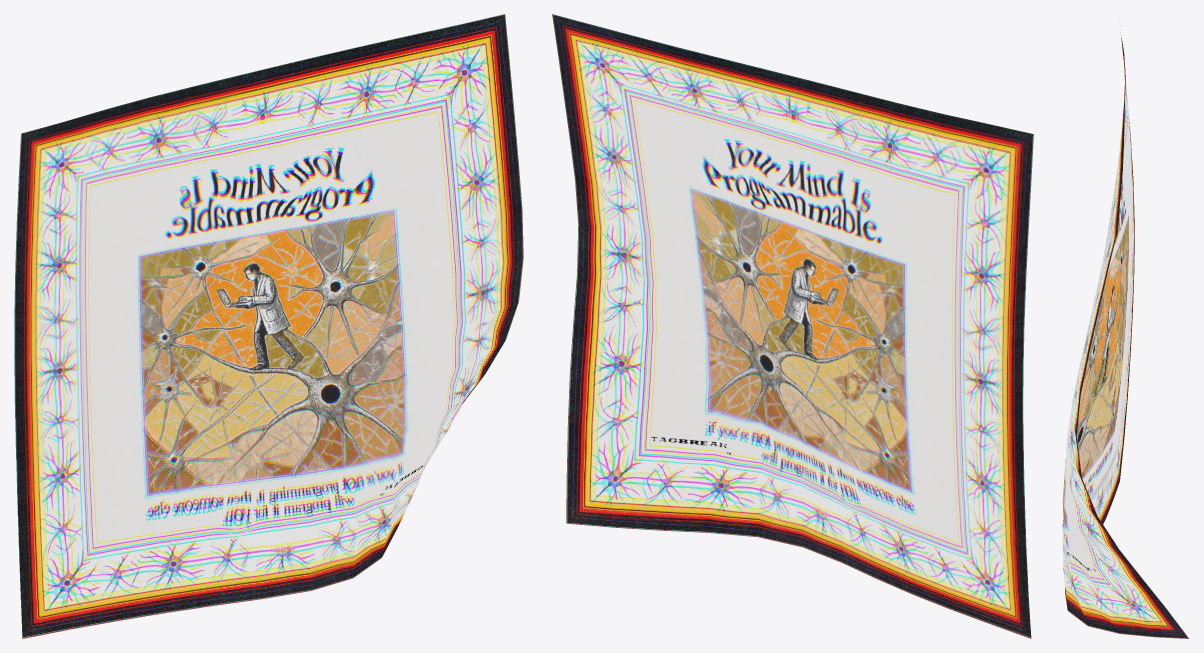
The model's file is scarf1.glb.
3 views of the same model, side by side, from view 1: azimuth 30°, elevation 25°; view 2: azimuth 150°, elevation 25°; view 3: azimuth 270°, elevation 25° (orthographic). The views are drawn at different scales.
Parts seen in each view (by area): view 1: Plane; view 2: Plane; view 3: Plane.
Boxes of the visible parts, x1=… form: Plane: x1=14, y1=14, x2=523, y2=638; Plane: x1=552, y1=14, x2=1033, y2=638; Plane: x1=1062, y1=32, x2=1188, y2=638.
Size of the model in its own units: 2 by 2.01 by 0.4932.
Materials: 1 (1 with a texture image).
